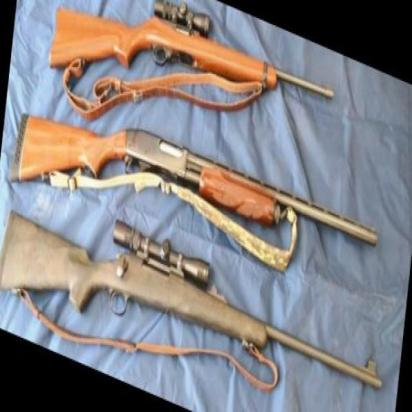Gun: (18, 118, 371, 255), (46, 7, 334, 107)
